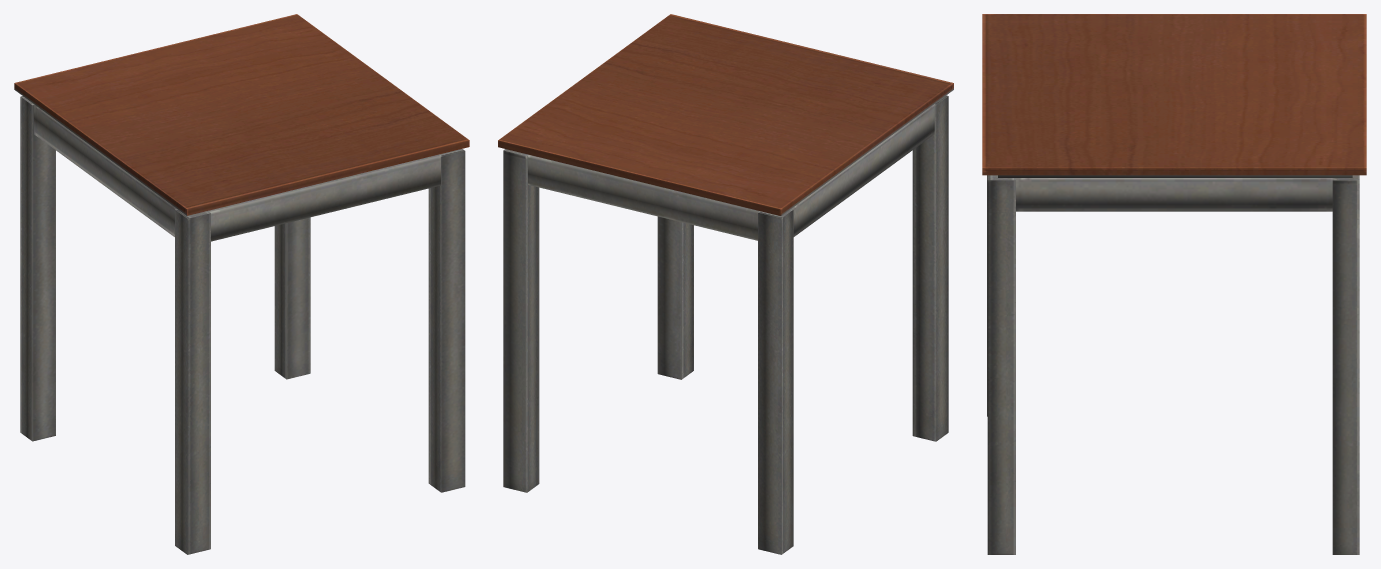
File: table_scanroom_small.dae
3 renders of one model, left to right at view 1: azimuth 30°, elevation 25°; view 2: azimuth 150°, elevation 25°; view 3: azimuth 270°, elevation 25°, orthographic. The views are drawn at different scales.
Parts seen in each view (by area): view 1: table_scanroom_small; view 2: table_scanroom_small; view 3: table_scanroom_small.
Boxes of the visible parts, left/top/right/bottom form: table_scanroom_small: left=14, top=14, right=469, bottom=554; table_scanroom_small: left=498, top=14, right=953, bottom=554; table_scanroom_small: left=982, top=14, right=1366, bottom=554.
Bounding box in the file's own units: 100 × 118 × 106.
